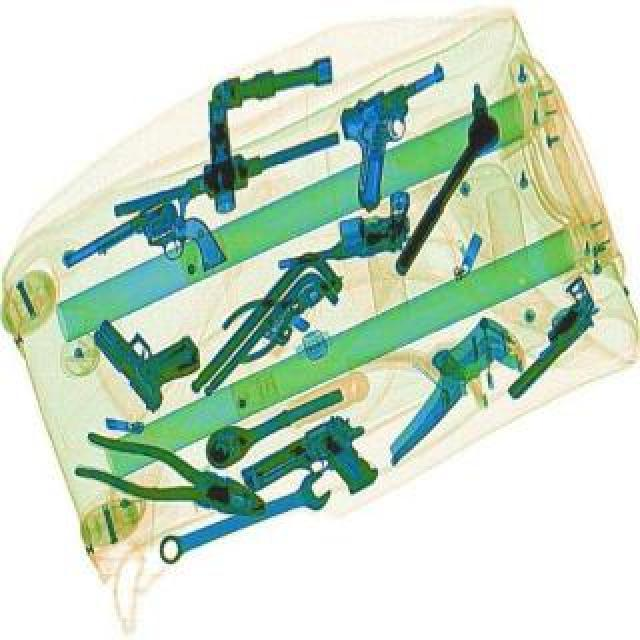gun: (312, 60, 492, 214), (54, 186, 230, 326), (236, 406, 392, 534), (482, 272, 616, 400), (82, 288, 214, 412), (266, 190, 420, 270)
scissors: (150, 466, 338, 566)
wrench: (70, 424, 274, 532), (208, 252, 356, 368)
